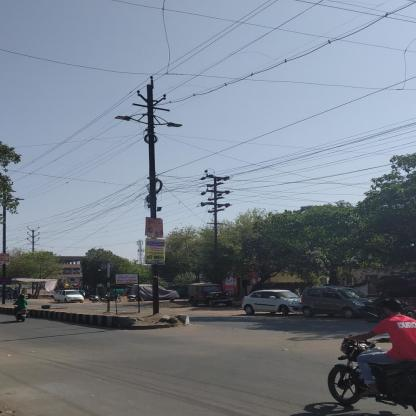Electrical Pole: (121, 72, 187, 313)
